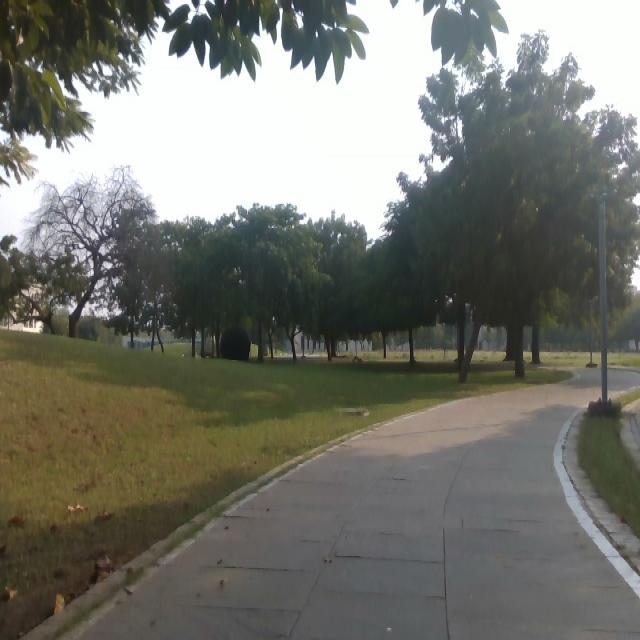lane: (78, 366, 640, 640)
